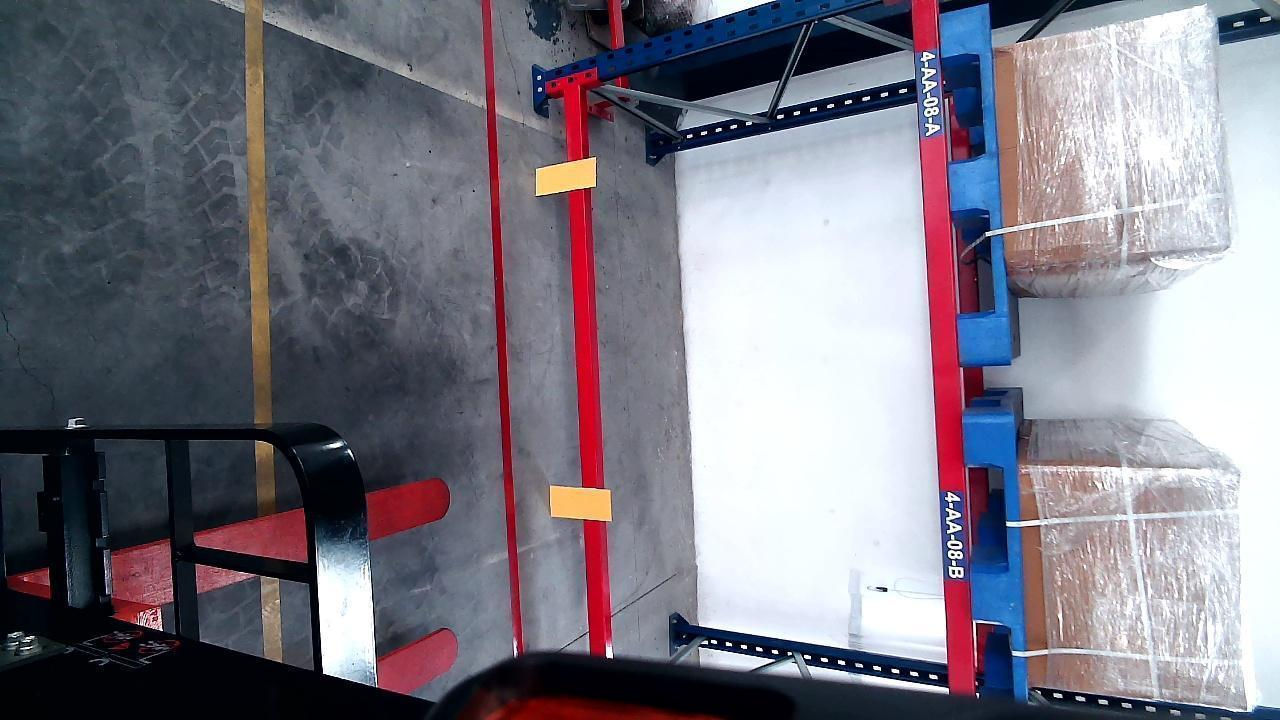red_line: (481, 0, 526, 647)
yellow_line: (247, 0, 271, 419)
